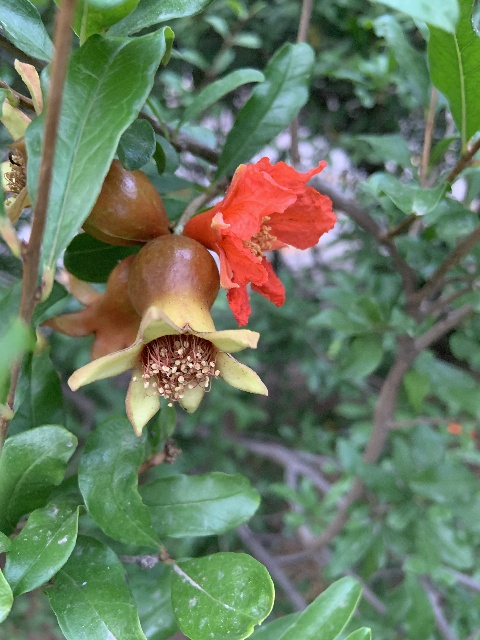early-fruit: (68, 232, 268, 437), (1, 59, 172, 240), (39, 255, 140, 361)
flower: (183, 156, 337, 324)
